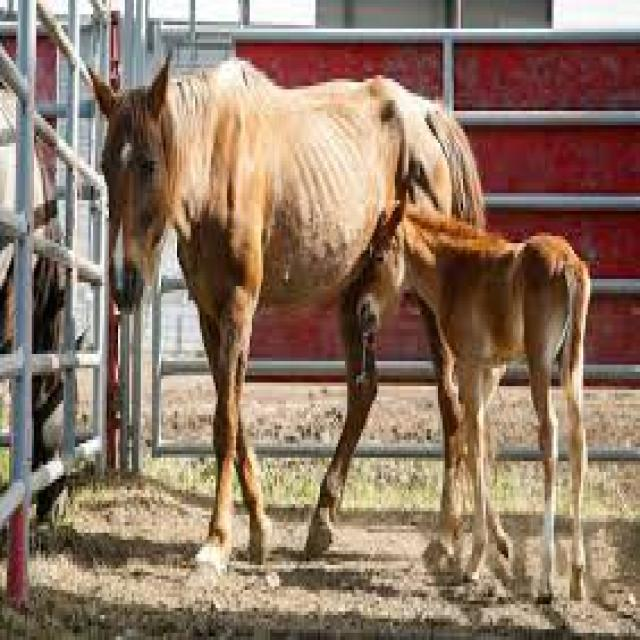Horse: (89, 70, 342, 602), (359, 202, 606, 604)
